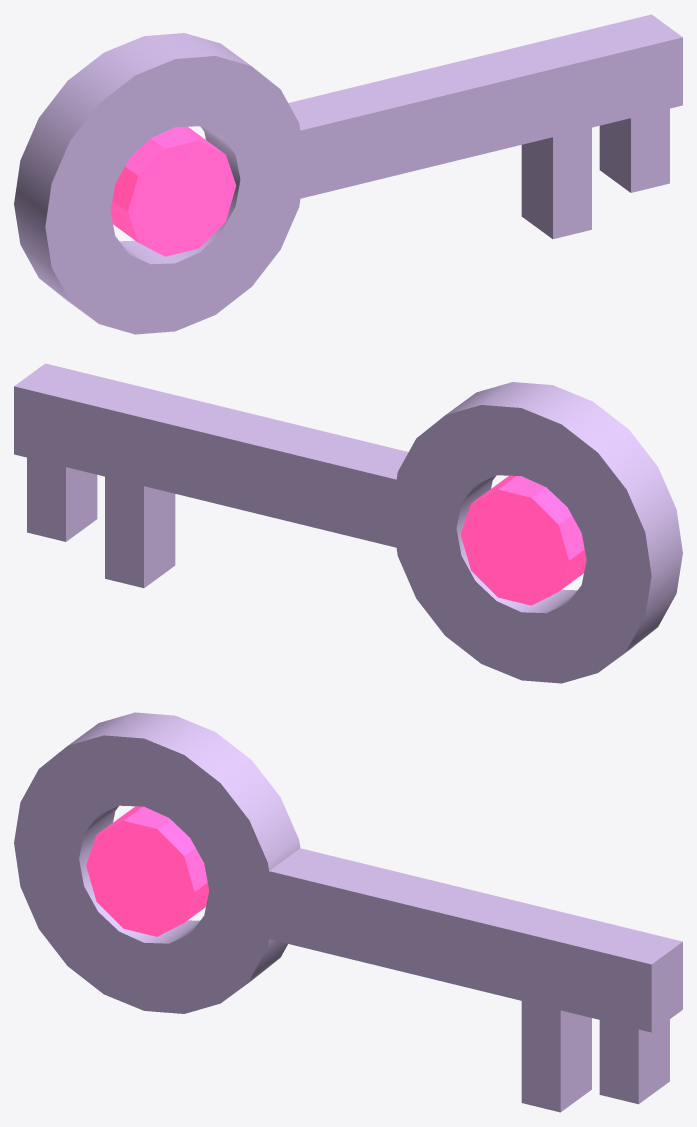
Rendered from dun_key_lilac.glb.
3 renders of one model, top to bottom at view 1: azimuth 30°, elevation 25°; view 2: azimuth 150°, elevation 25°; view 3: azimuth 330°, elevation 25°, orthographic.
Parts seen in each view (by area): view 1: dun_key_lilac_satin_lilac_0, dun_key_lilac_ruby_0; view 2: dun_key_lilac_satin_lilac_0, dun_key_lilac_ruby_0; view 3: dun_key_lilac_satin_lilac_0, dun_key_lilac_ruby_0.
Boxes of the visible parts, x1=… form: dun_key_lilac_satin_lilac_0: x1=14, y1=14, x2=682, y2=334; dun_key_lilac_ruby_0: x1=110, y1=126, x2=236, y2=256; dun_key_lilac_satin_lilac_0: x1=14, y1=363, x2=682, y2=683; dun_key_lilac_ruby_0: x1=460, y1=475, x2=586, y2=605; dun_key_lilac_satin_lilac_0: x1=14, y1=712, x2=682, y2=1112; dun_key_lilac_ruby_0: x1=86, y1=806, x2=208, y2=936.
Size of the model in its own units: 0.3528 by 0.144 by 0.04.
